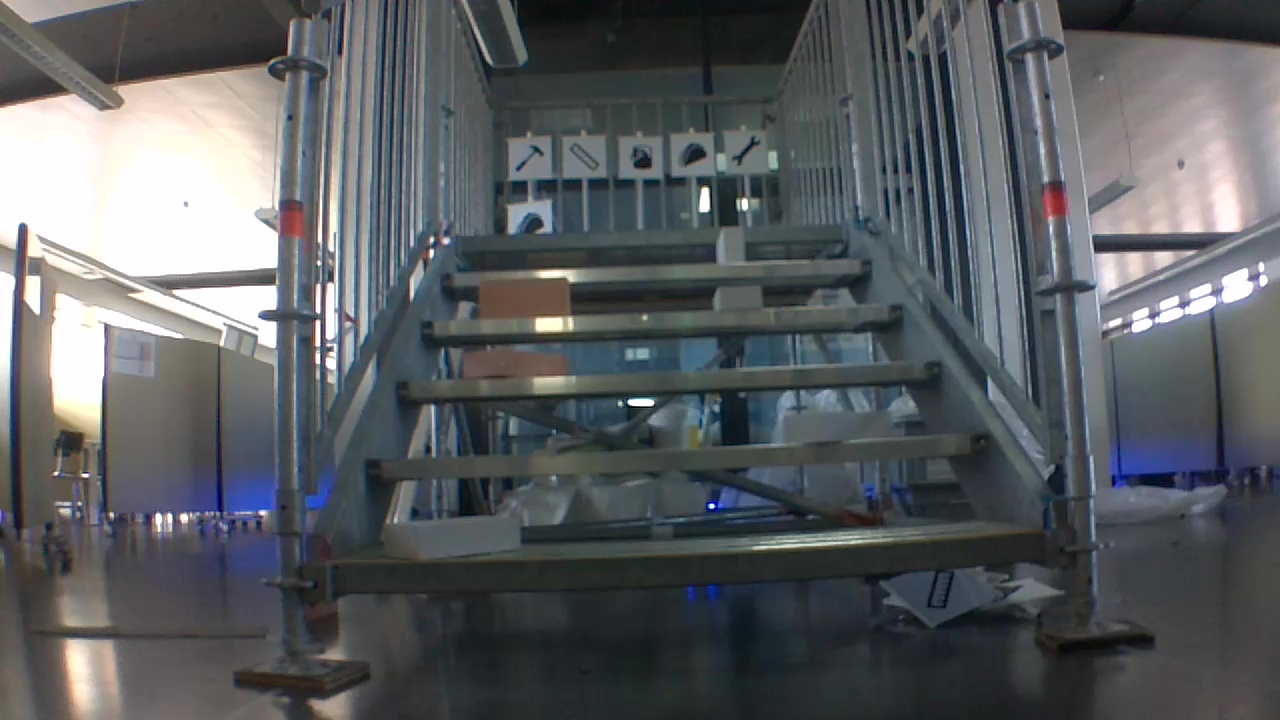brick: (379, 510, 525, 562), (477, 275, 576, 321), (777, 408, 895, 444), (457, 350, 567, 380), (715, 280, 767, 314), (717, 226, 749, 266)
bucket: (628, 142, 654, 172)
edge: (314, 529, 1058, 575), (360, 433, 1004, 476), (391, 355, 958, 402), (446, 259, 879, 288), (452, 223, 853, 247), (411, 307, 916, 326)
hammer: (512, 141, 549, 173)
ruler: (916, 569, 974, 614), (568, 141, 599, 173)
stairs: (277, 0, 1161, 662)
steps: (306, 216, 1050, 591)
taco: (677, 139, 710, 167), (514, 212, 543, 235)
wrench: (732, 135, 762, 165)
